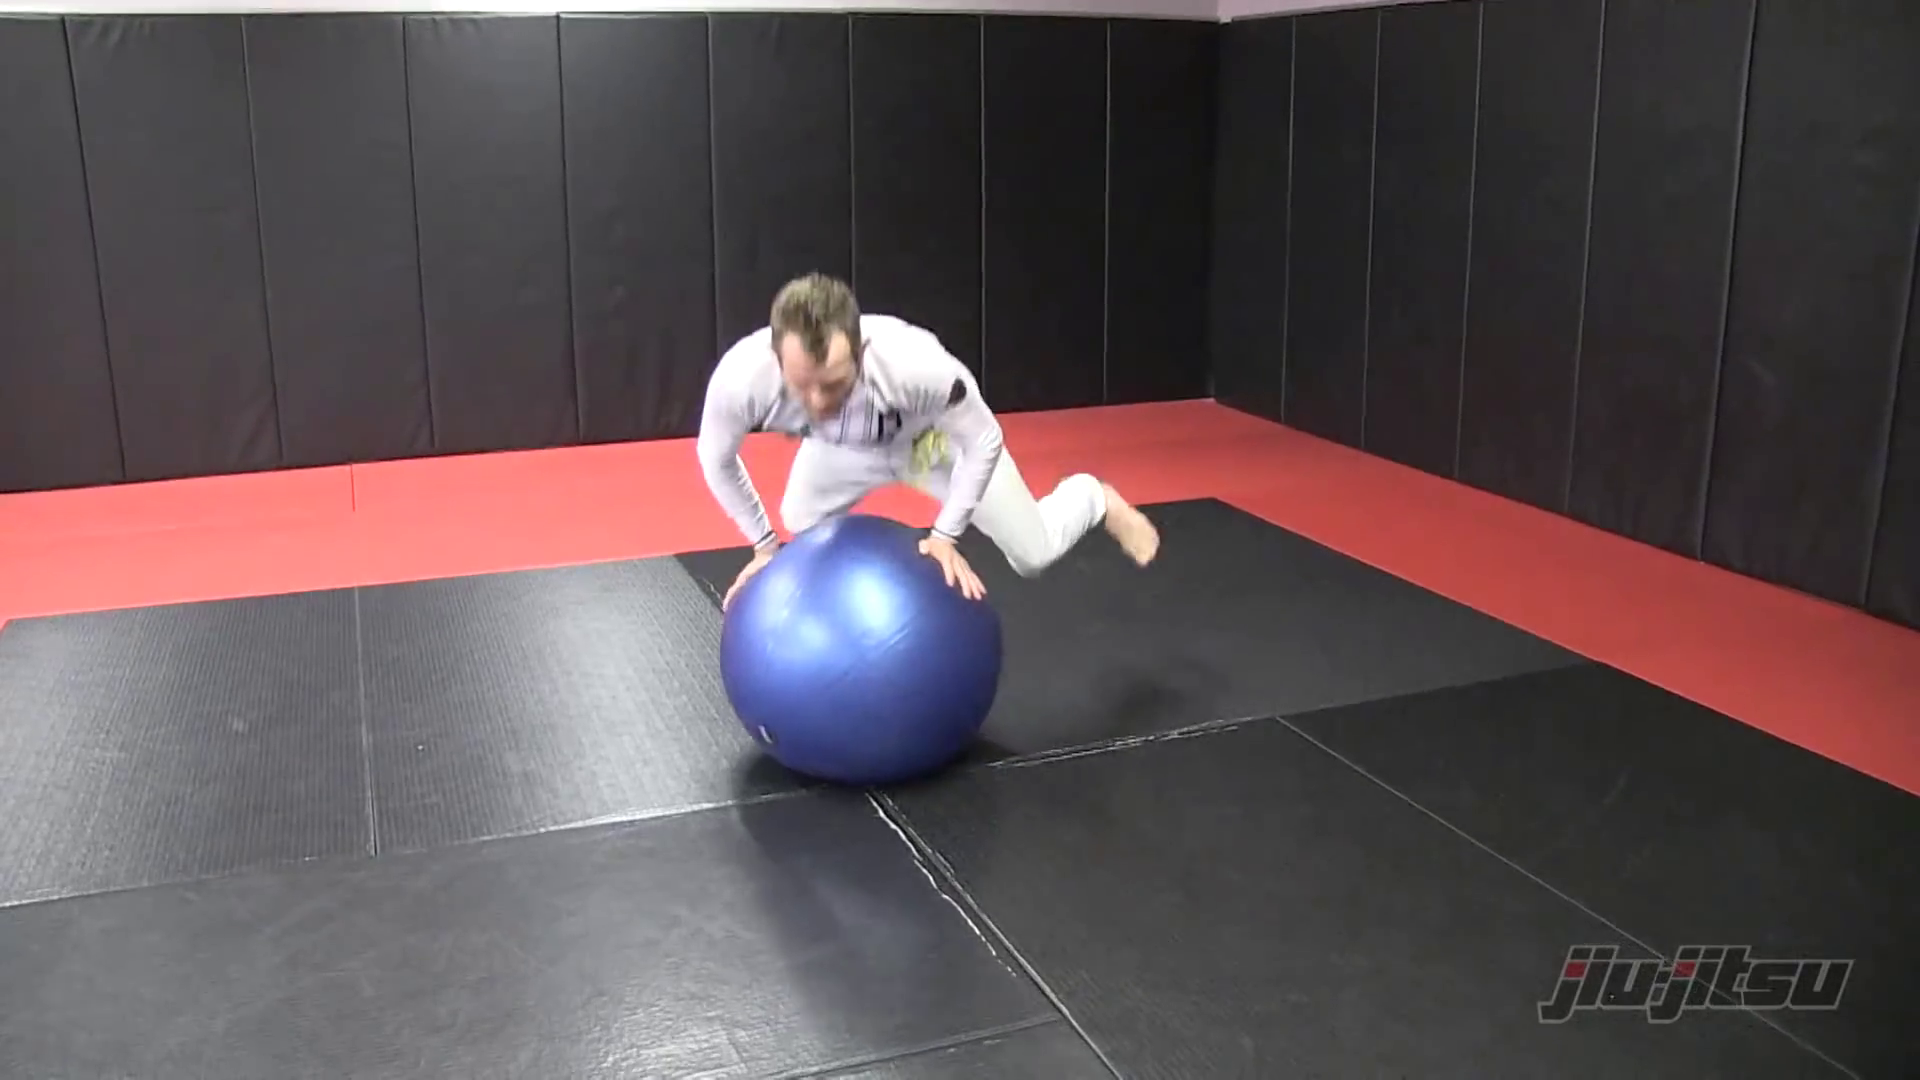yogaball: (692, 502, 1025, 816)
